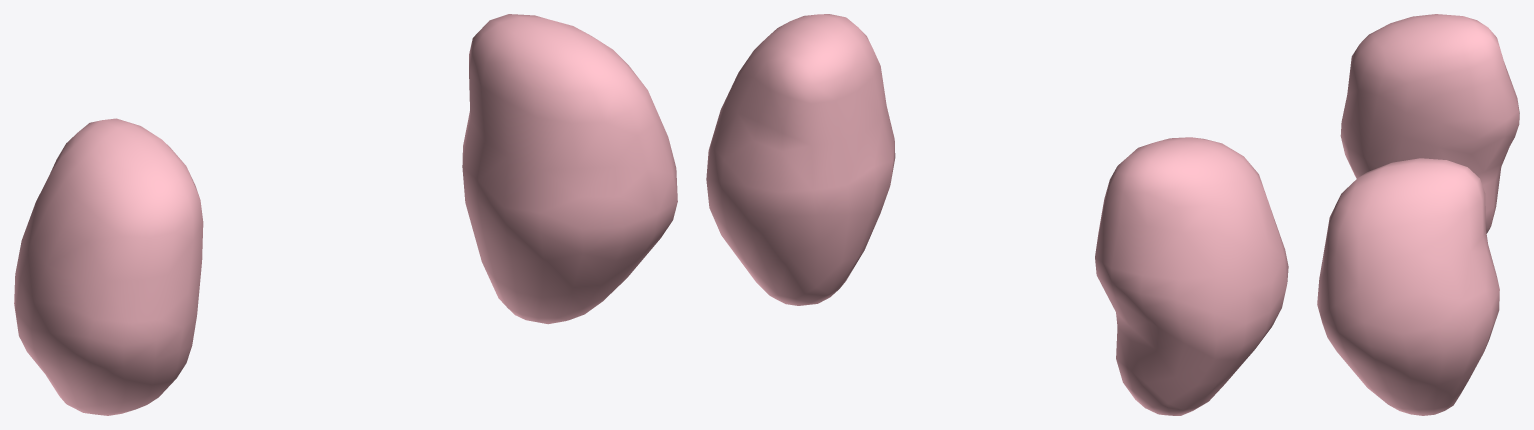
Rendered from OticVesicle.fbx.
The picture shows the model from 3 angles, left to right: view 1: azimuth 30°, elevation 25°; view 2: azimuth 150°, elevation 25°; view 3: azimuth 270°, elevation 25°; orthographic projection. The views are drawn at different scales.
Visible parts, largest first — view 1: Otic_vesicle; view 2: Otic_vesicle; view 3: Otic_vesicle.
Part boxes in pixels (x1,y1,x2,y2): Otic_vesicle: (14, 14, 677, 415); Otic_vesicle: (706, 14, 1288, 415); Otic_vesicle: (1317, 14, 1519, 415).
Size of the model in its own units: 9.03 by 4.21 by 3.18.
